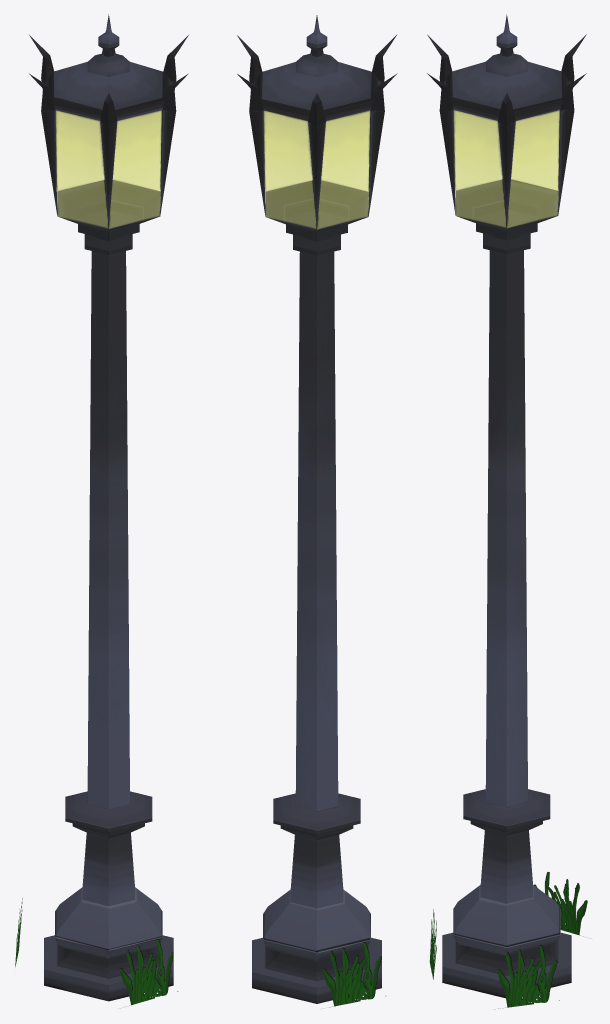
Rendered from lamppost_fe87bbdf.glb.
3 renders of one model, left to right at view 1: azimuth 30°, elevation 25°; view 2: azimuth 150°, elevation 25°; view 3: azimuth 270°, elevation 25°, orthographic.
Visible parts, largest first — view 1: Object_3; view 2: Object_3; view 3: Object_3.
Part boxes in pixels (box(x1,y1,x2,y2)): Object_3: box(15, 14, 188, 1005); Object_3: box(237, 15, 397, 1007); Object_3: box(427, 14, 587, 1009).
Bounding box in the file's own units: 21.03 × 115 × 18.46.
1 material, 1 textured.
